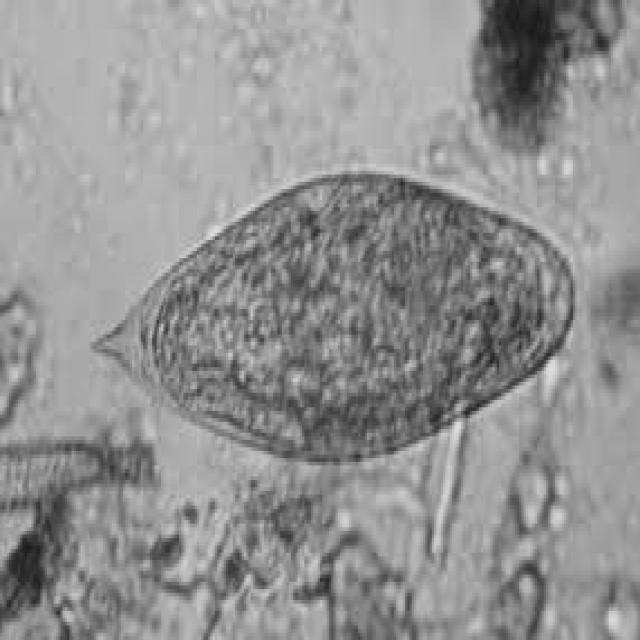Schistosoma: (84, 158, 585, 478)
